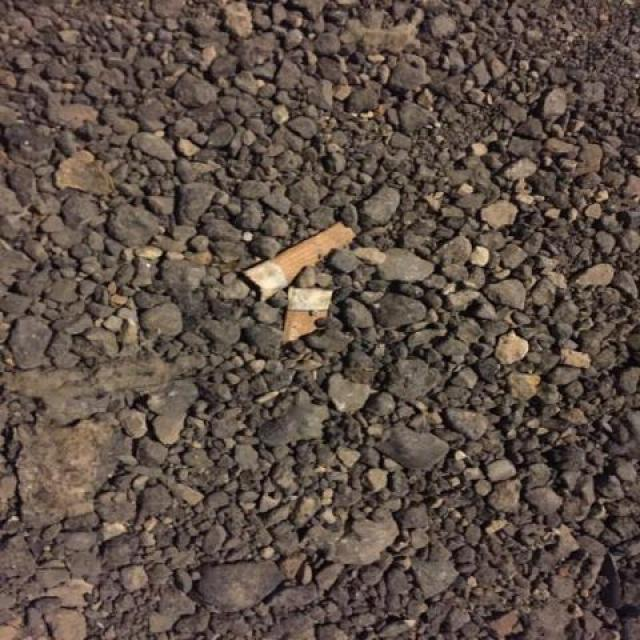non-organic waste: (232, 213, 371, 310)
